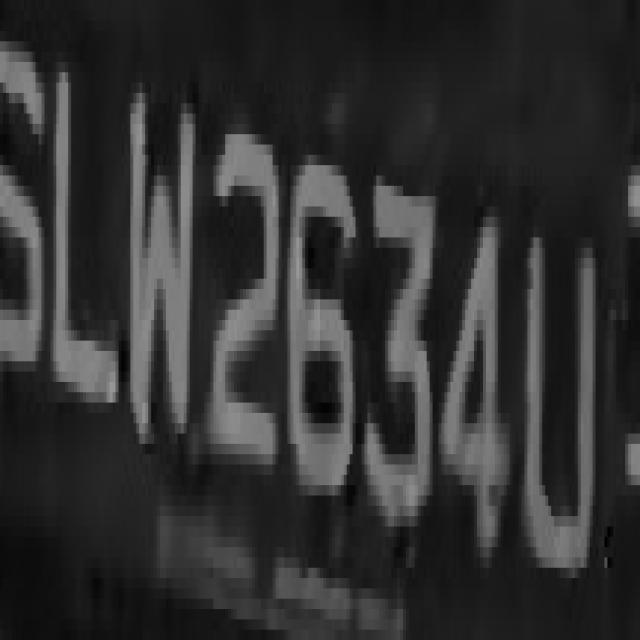2: (202, 93, 284, 506)
3: (352, 134, 442, 547)
4: (436, 145, 504, 578)
6: (290, 134, 364, 506)
L: (51, 62, 112, 403)
S: (0, 31, 56, 382)
U: (522, 196, 598, 589)
W: (112, 83, 198, 454)
